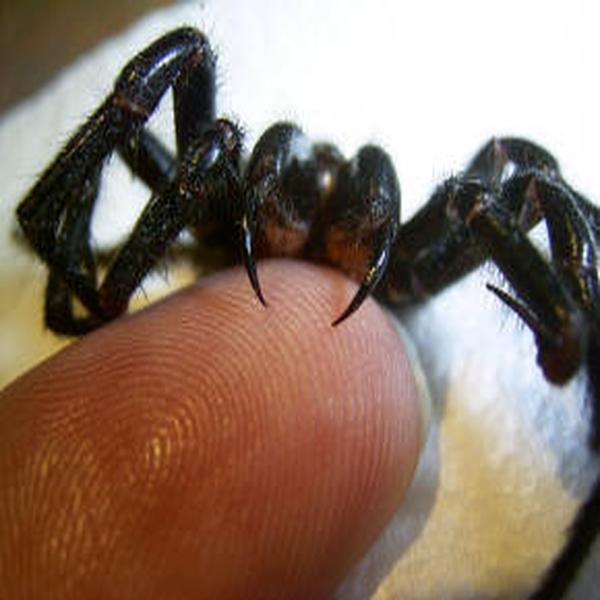Funnel Web Spider: (33, 31, 600, 401)
